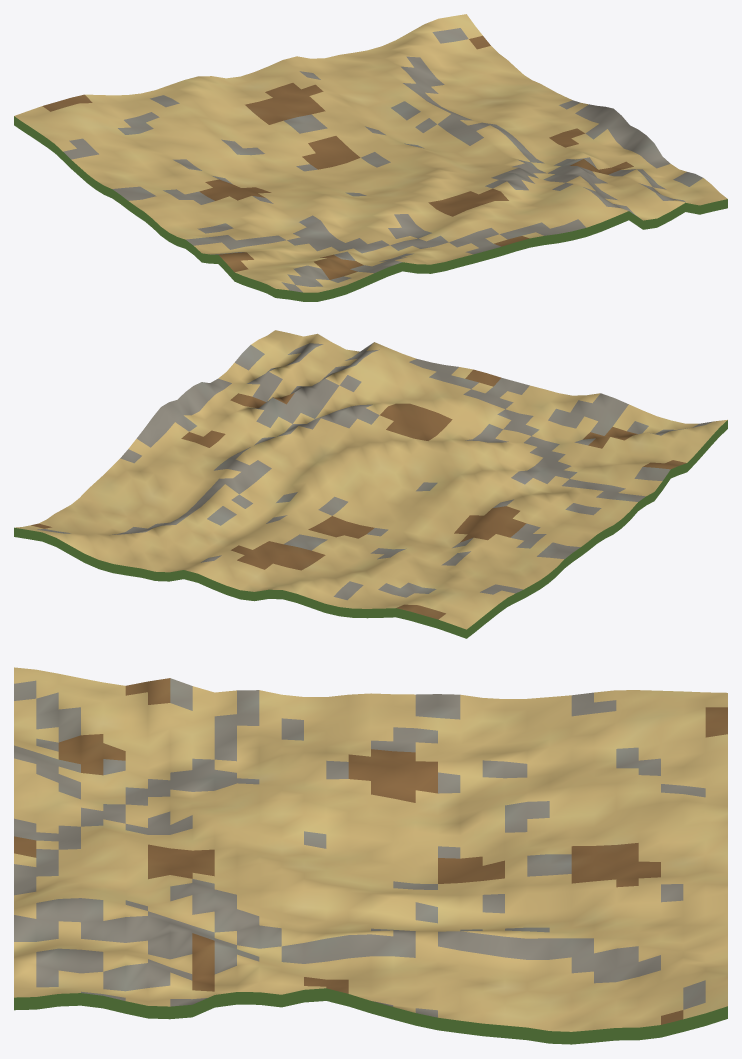
File: chunk_6_5_lod1.glb
The picture shows the model from 3 angles, top to bottom: view 1: azimuth 30°, elevation 25°; view 2: azimuth 150°, elevation 25°; view 3: azimuth 270°, elevation 25°; orthographic projection. The views are drawn at different scales.
Parts seen in each view (by area): view 1: Surface_Sand, Surface_Gravel, Surface_Dirt, Skirt; view 2: Surface_Sand, Surface_Gravel, Surface_Dirt, Skirt; view 3: Surface_Sand, Surface_Gravel, Surface_Dirt, Skirt.
Part boxes in pixels (<box>): Surface_Sand: <box>14,14,727,292</box>; Surface_Gravel: <box>63,28,702,292</box>; Surface_Dirt: <box>42,35,633,279</box>; Skirt: <box>14,116,727,301</box>; Surface_Sand: <box>15,330,727,629</box>; Surface_Gravel: <box>37,342,712,600</box>; Surface_Dirt: <box>31,369,686,619</box>; Skirt: <box>14,420,727,638</box>; Surface_Sand: <box>14,667,727,1031</box>; Surface_Gravel: <box>14,678,705,1017</box>; Surface_Dirt: <box>14,678,727,1024</box>; Skirt: <box>14,988,727,1044</box>.
Bounding box in the file's own units: 256 × 29.82 × 256.
